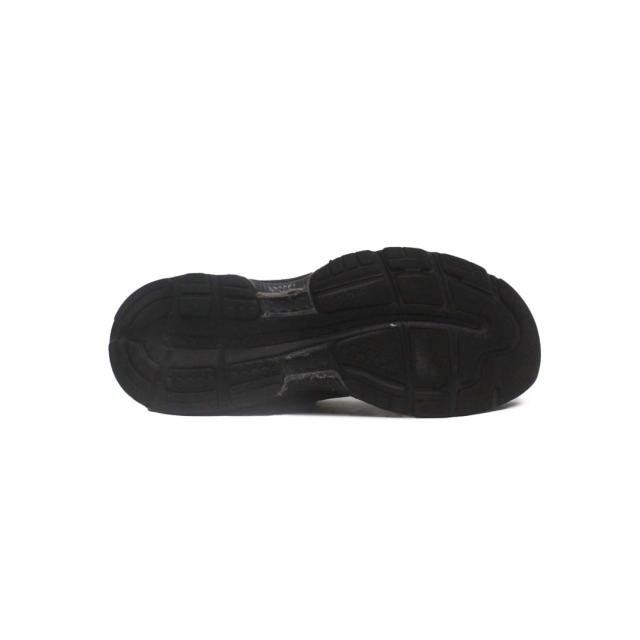outersole: (111, 252, 544, 420)
